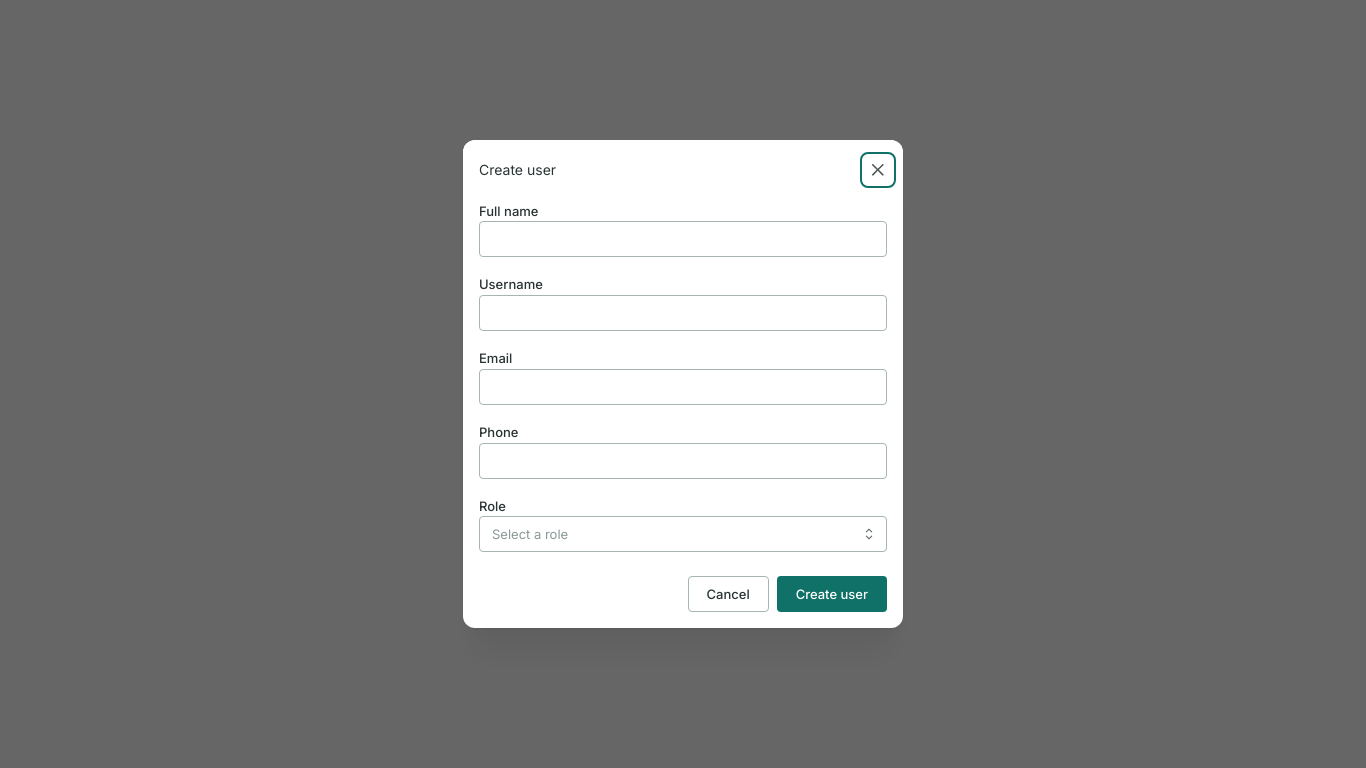
Test: CreateUserDialog › creates a user and reveals the initial password exactly once
The width and height of the screenshot is (1366, 768).
In the field labelled "Full name": [683, 240] box [479,222,887,258], type "Priya Physio"
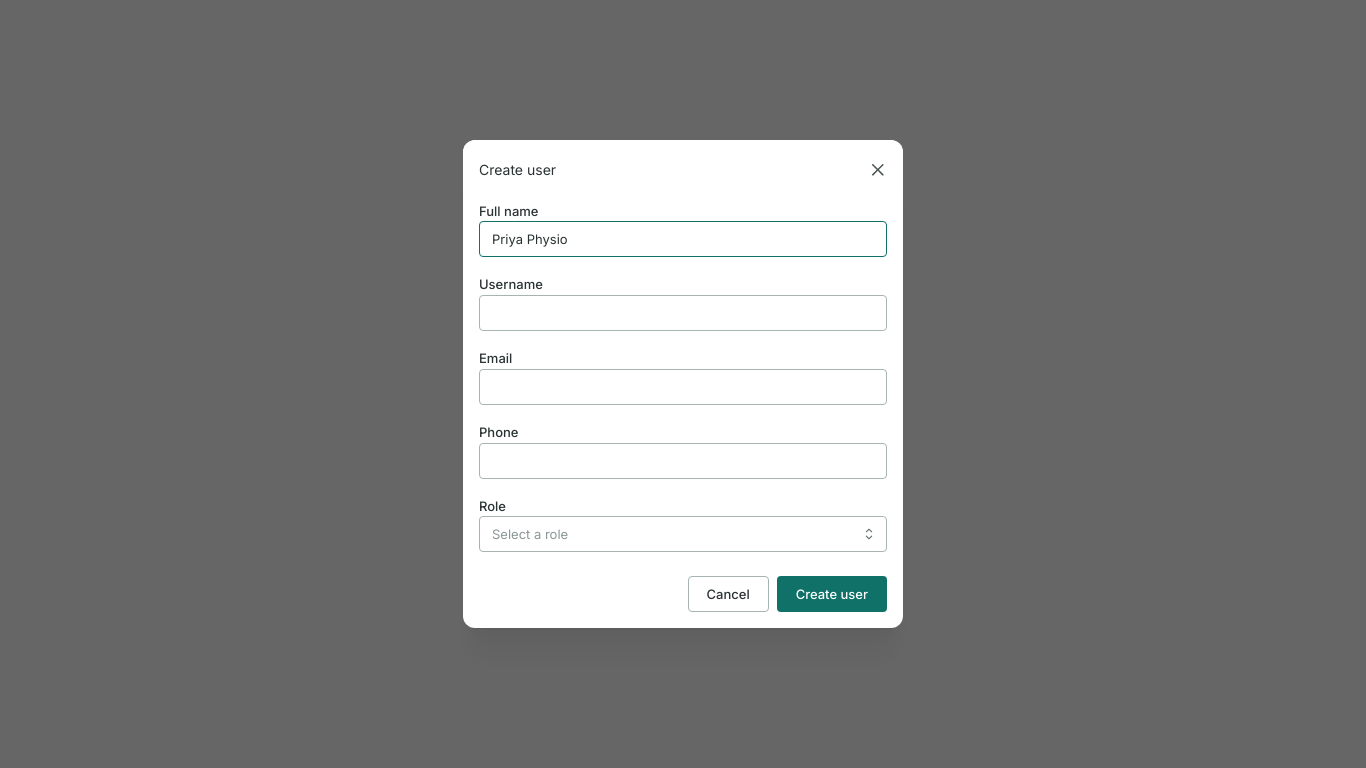
In the field labelled "Username": [683, 313] box [479,295,887,331], type "priya"
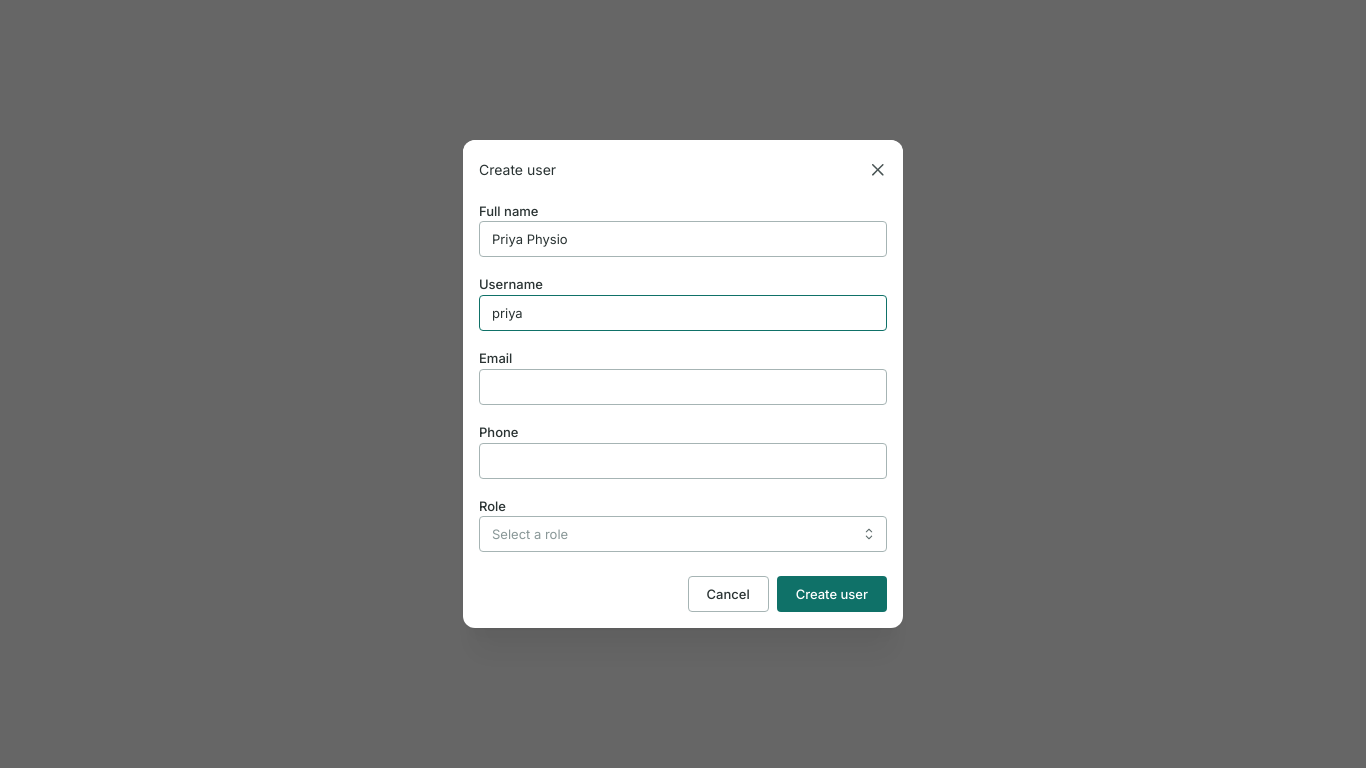
In the field labelled "Email": [683, 387] box [479,369,887,405], type "priya@example.test"
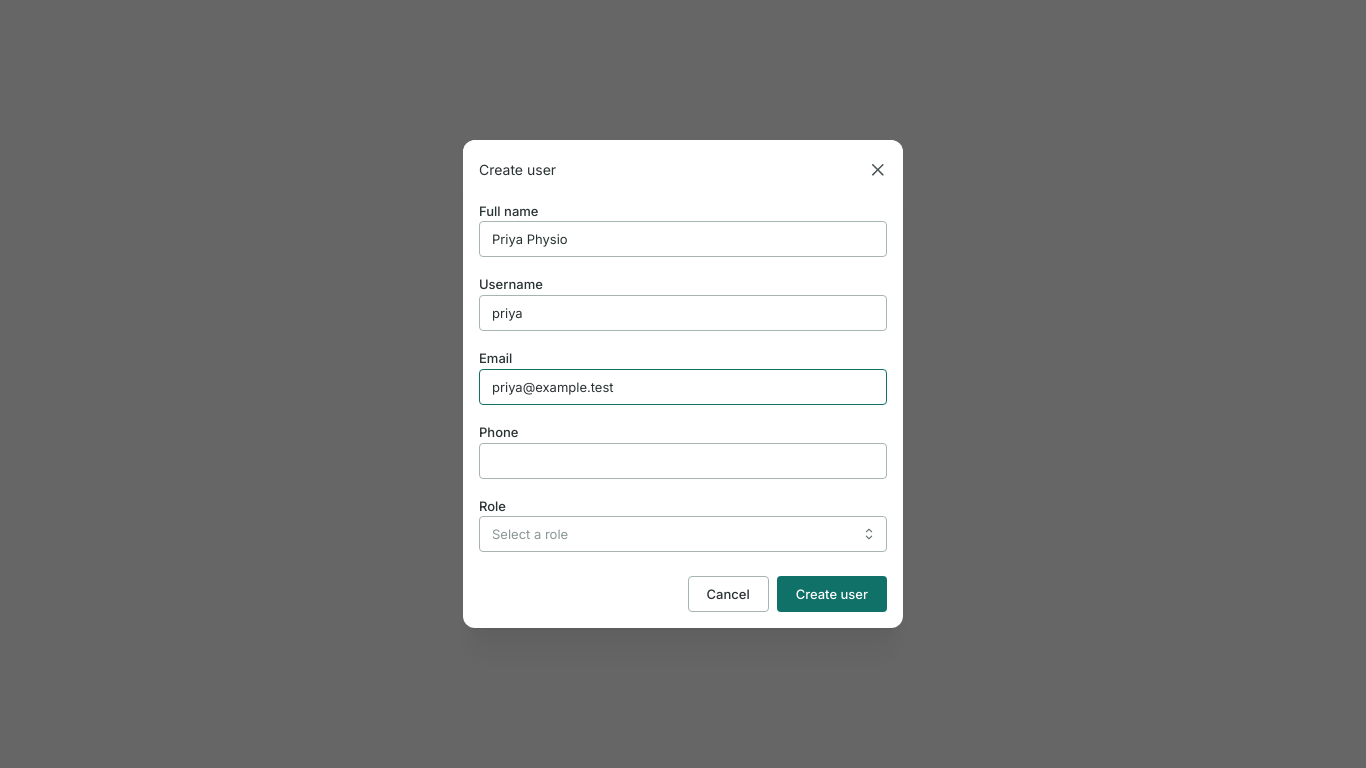
Click the dropdown labelled "Role": [683, 534] box [479,516,887,552]
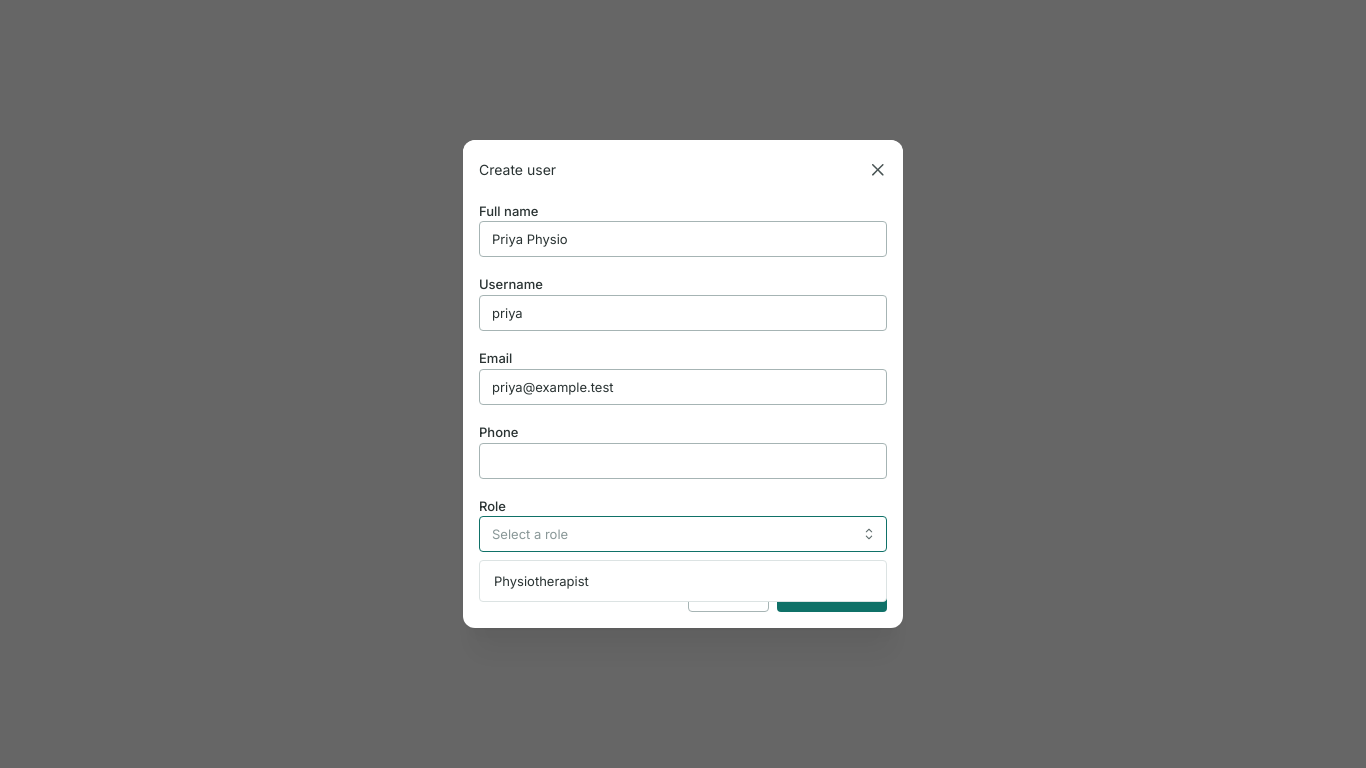
Click the option "Physiotherapist": [541, 581] box [494,573,589,589]
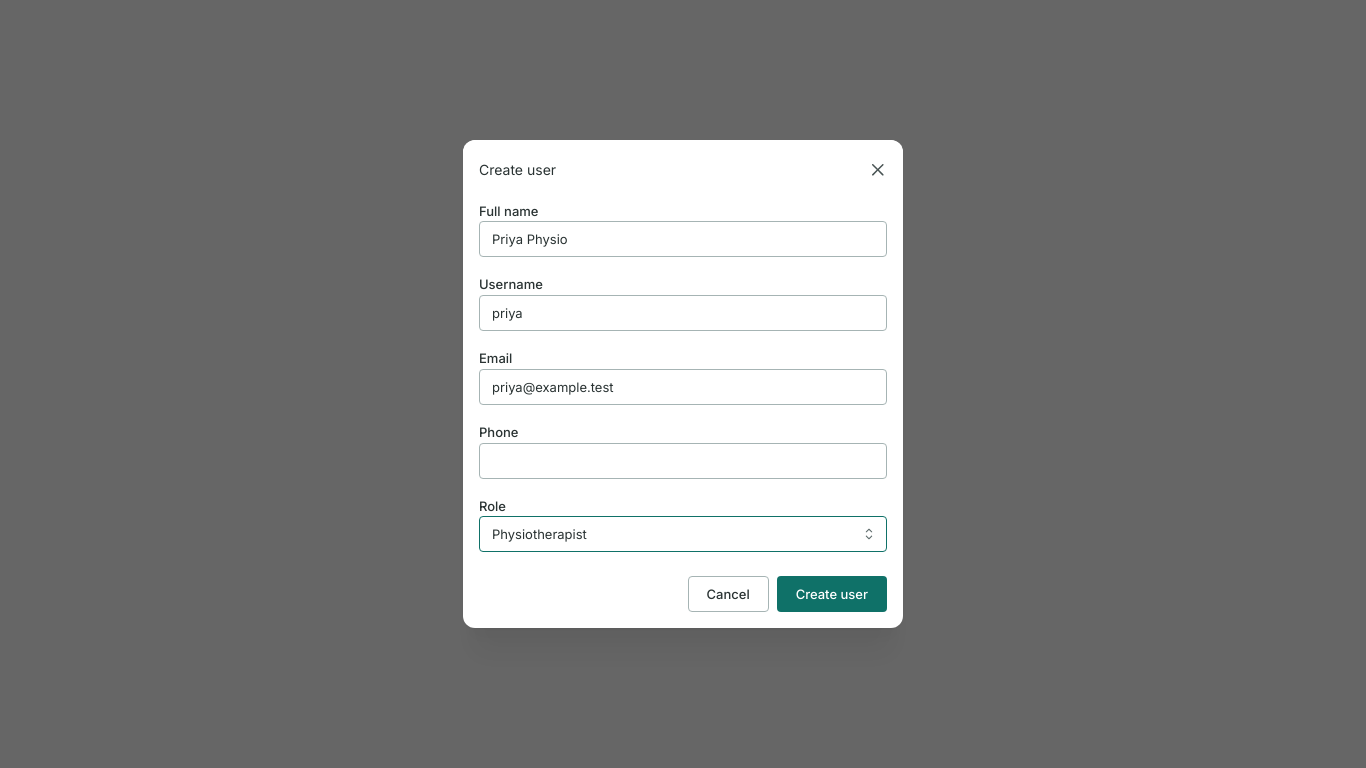
Click the button "Create user": [832, 594] box [777,576,887,612]
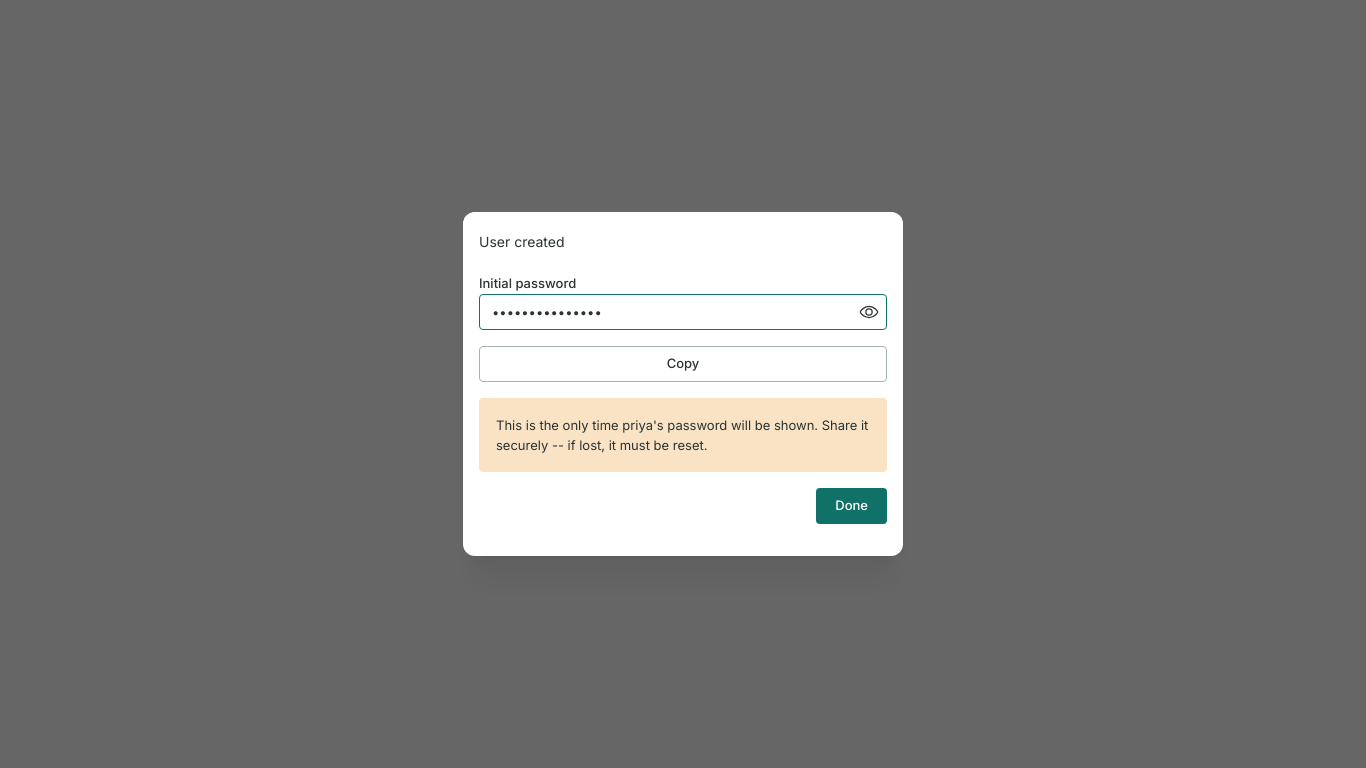
Result: the heading "User created" is shown at [479,235,565,249]
Result: the password field labelled "Initial password" holds "Xk9!mPz2qwErTy1" at [480,295,886,329]
Result: the label labelled "Full name" is gone
